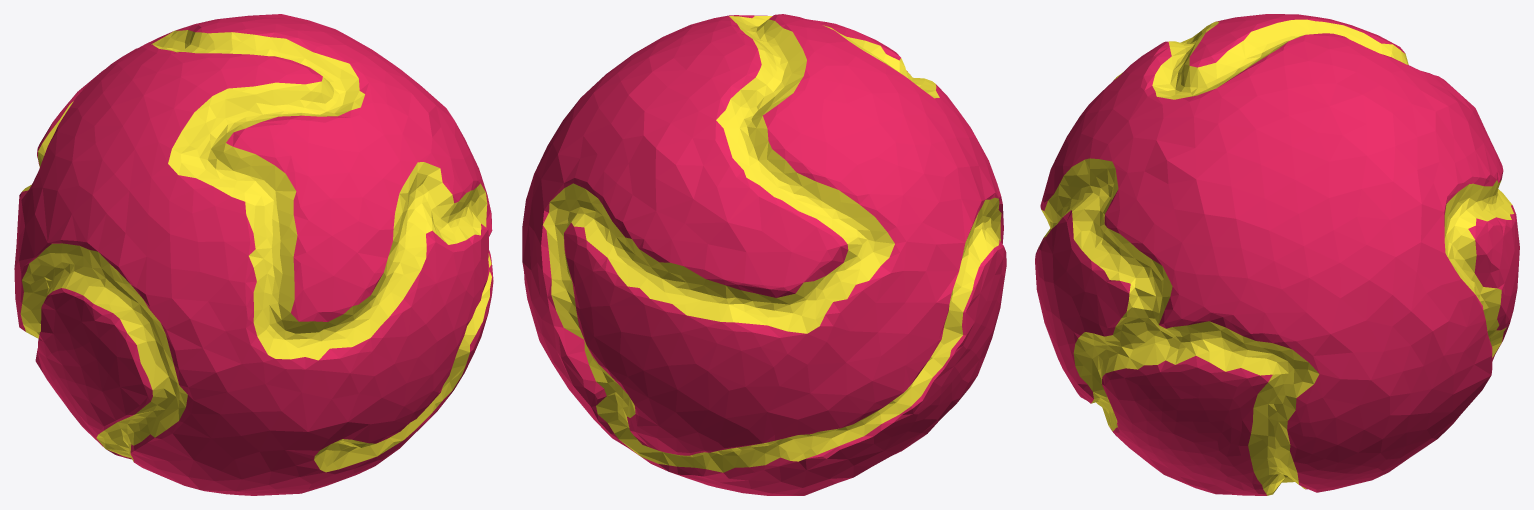
The model's file is Planet_5.glb.
The picture shows the model from 3 angles, left to right: view 1: azimuth 30°, elevation 25°; view 2: azimuth 150°, elevation 25°; view 3: azimuth 270°, elevation 25°; orthographic projection.
Parts seen in each view (by area): view 1: Planet_5; view 2: Planet_5; view 3: Planet_5.
Part boxes in pixels (x1,y1,x2,y2): Planet_5: [14, 14, 493, 495]; Planet_5: [522, 14, 1006, 495]; Planet_5: [1035, 14, 1519, 495].
Bounding box in the file's own units: 19.93 × 19.93 × 19.87.
Materials: 1 (1 with a texture image).
